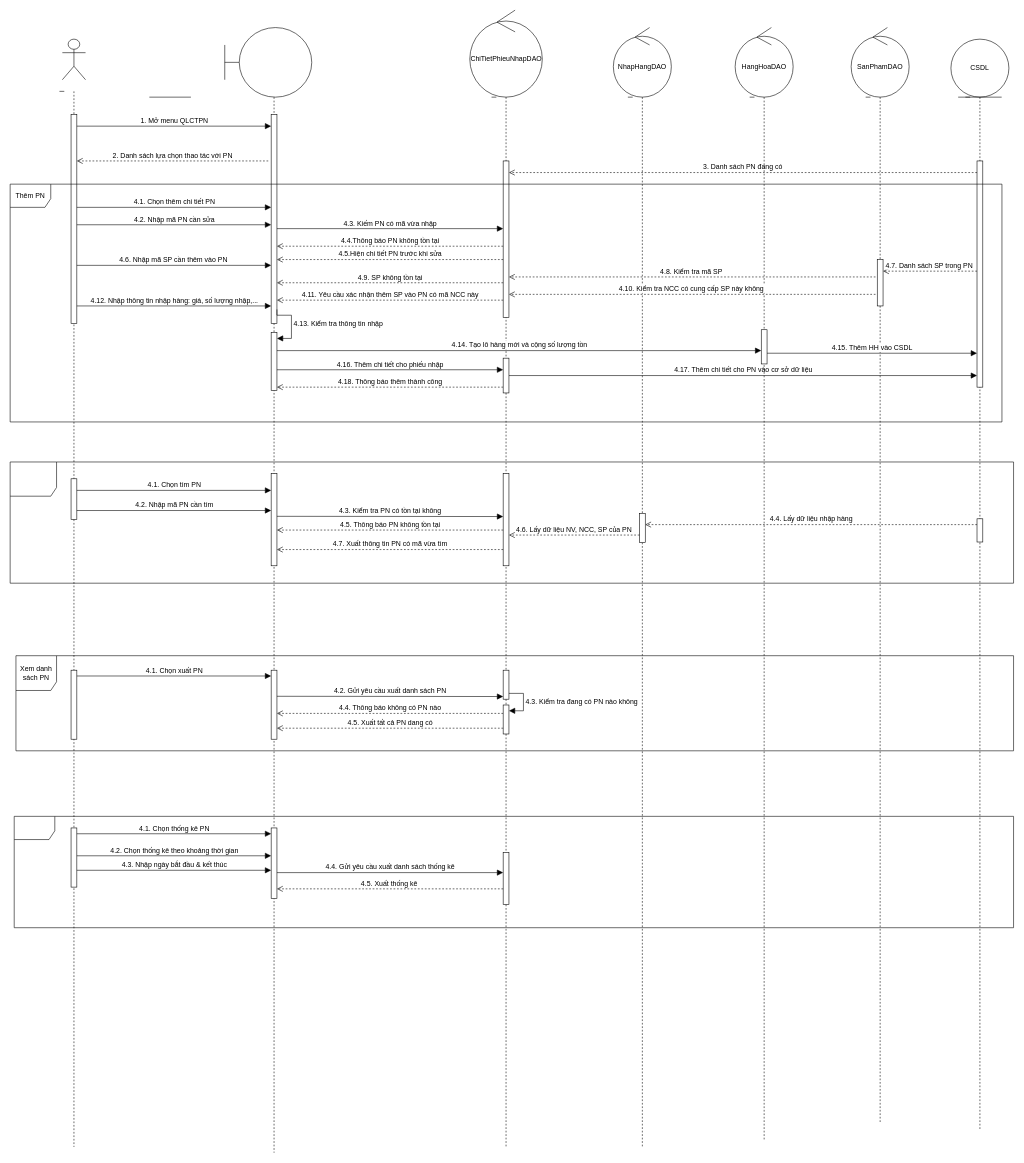
This 1024x1163 diagram has some shape labels left out. The centre of each missing label's shape, as x and y in pixels:
"Actor" goes at point 74,59.
"QLChiTietPhieuNhap" goes at point 268,62.
"Thống kê PN" goes at point 514,872.
"Tìm kiếm chi tiết PN" goes at point 512,522.
